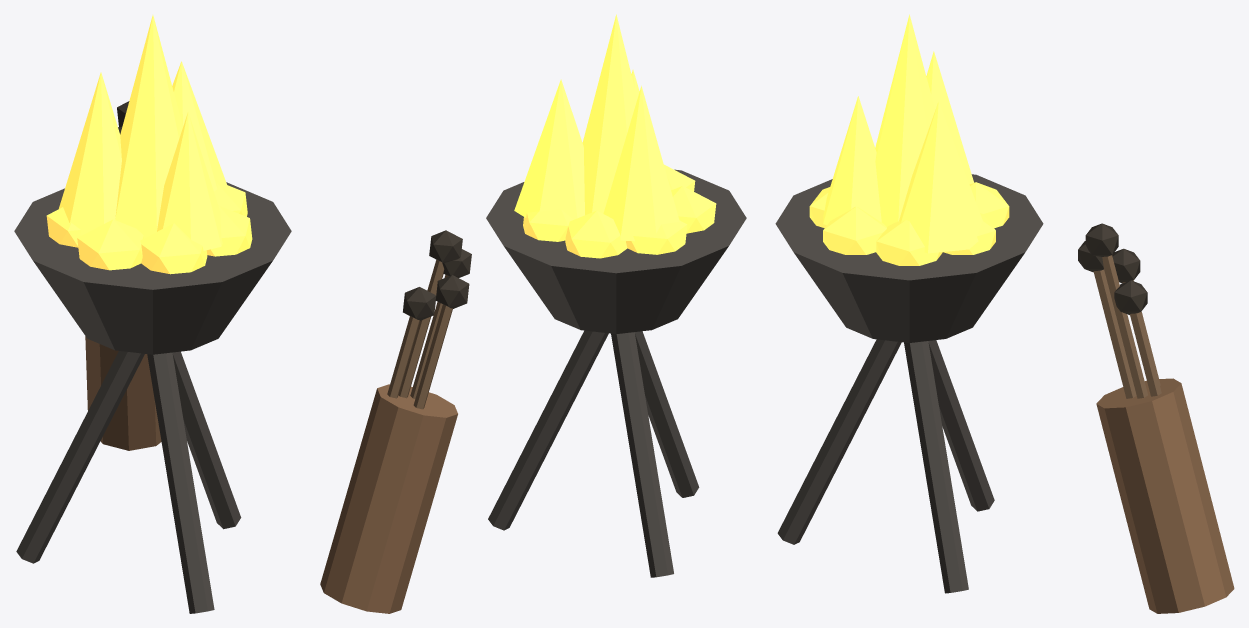
The model's file is incendiary.glb.
The picture shows the model from 3 angles, left to right: view 1: azimuth 30°, elevation 25°; view 2: azimuth 150°, elevation 25°; view 3: azimuth 270°, elevation 25°; orthographic projection. The views are drawn at different scales.
Parts seen in each view (by area): view 1: incendiary_basket, incendiary_quiver; view 2: incendiary_basket, incendiary_quiver; view 3: incendiary_basket, incendiary_quiver.
Part boxes in pixels (x1,y1,x2,y2): incendiary_basket: [14, 15, 291, 613]; incendiary_quiver: [85, 101, 161, 450]; incendiary_basket: [486, 14, 746, 577]; incendiary_quiver: [320, 230, 471, 613]; incendiary_basket: [775, 14, 1043, 593]; incendiary_quiver: [1078, 223, 1234, 613].
Bounding box in the file's own units: 0.1297 × 0.2433 × 0.1884.
